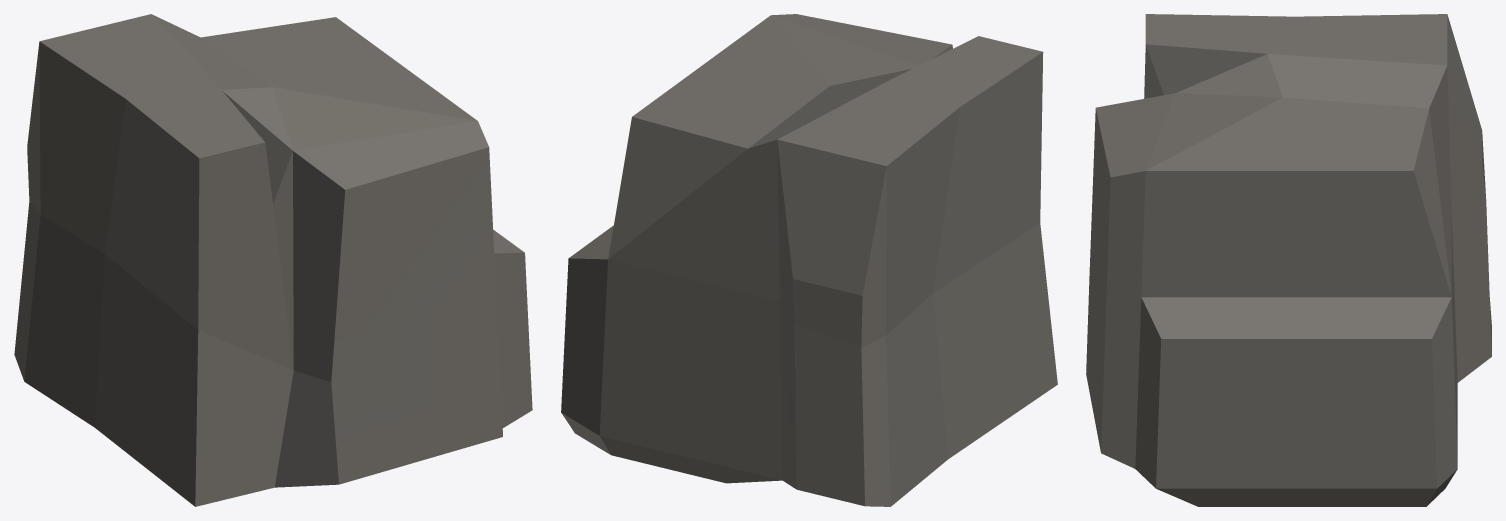
The model's file is pit_debris.gltf.
The picture shows the model from 3 angles, left to right: view 1: azimuth 30°, elevation 25°; view 2: azimuth 150°, elevation 25°; view 3: azimuth 270°, elevation 25°; orthographic projection. The views are drawn at different scales.
Parts seen in each view (by area): view 1: pit_debris; view 2: pit_debris; view 3: pit_debris.
Boxes of the visible parts, x1,y1,x2,y2 form: pit_debris: [14, 14, 532, 506]; pit_debris: [561, 14, 1057, 506]; pit_debris: [1086, 14, 1491, 506].
Size of the model in its own units: 1.35 by 1.35 by 1.44.
1 material, 1 textured.
